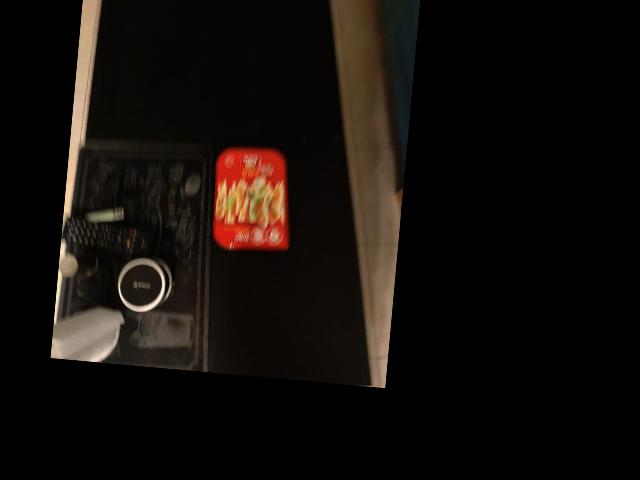cheese: (207, 142, 300, 253)
